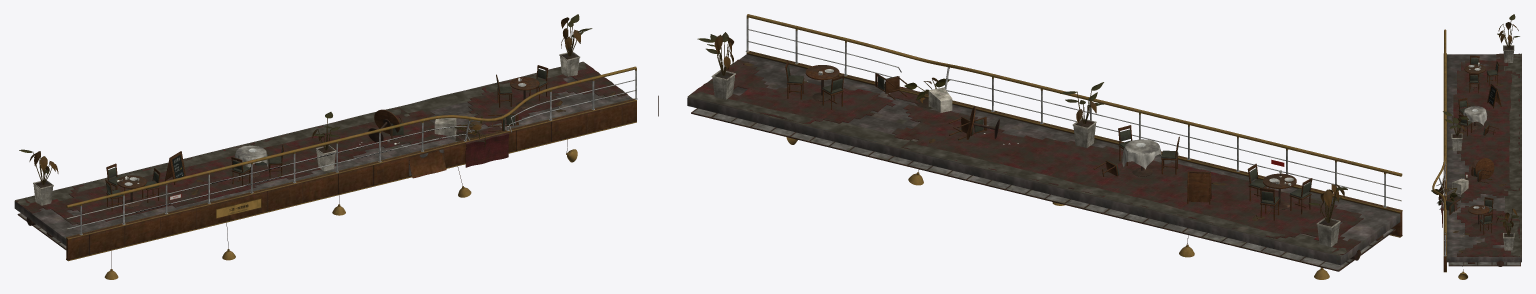
File: atrium-balcony.glb
The picture shows the model from 3 angles, left to right: view 1: azimuth 30°, elevation 25°; view 2: azimuth 150°, elevation 25°; view 3: azimuth 270°, elevation 25°; orthographic projection. The views are drawn at different scales.
Parts seen in each view (by area): view 1: balcony-deck, carpet, furniture, railing, plants, stencils, pendant-lights, tablecloth; view 2: balcony-deck, carpet, furniture, railing, plants, tablecloth, pendant-lights; view 3: carpet, balcony-deck, furniture, plants, railing, tablecloth, stencils.
Boxes of the visible parts, x1,y1,x2,y2 form: balcony-deck: (14,61,658,261); carpet: (15,63,627,224); furniture: (33,51,580,211); railing: (66,66,637,235); plants: (19,14,615,194); stencils: (125,78,522,218); pendant-lights: (104,107,577,279); tablecloth: (234,145,267,167); balcony-deck: (687,51,1402,271); carpet: (689,59,1363,254); furniture: (711,60,1340,246); railing: (745,14,1402,207); plants: (697,32,1347,222); tablecloth: (1122,139,1161,169); pendant-lights: (786,81,1329,279); carpet: (1440,53,1519,256); balcony-deck: (1438,53,1521,272); furniture: (1446,45,1514,250); plants: (1431,14,1519,252); railing: (1432,29,1446,256); tablecloth: (1463,106,1487,125); stencils: (1478,66,1496,208).
Bounding box in the file's own units: 20.79 × 4.2 × 3.79.
Materials: 7 (7 with a texture image).
